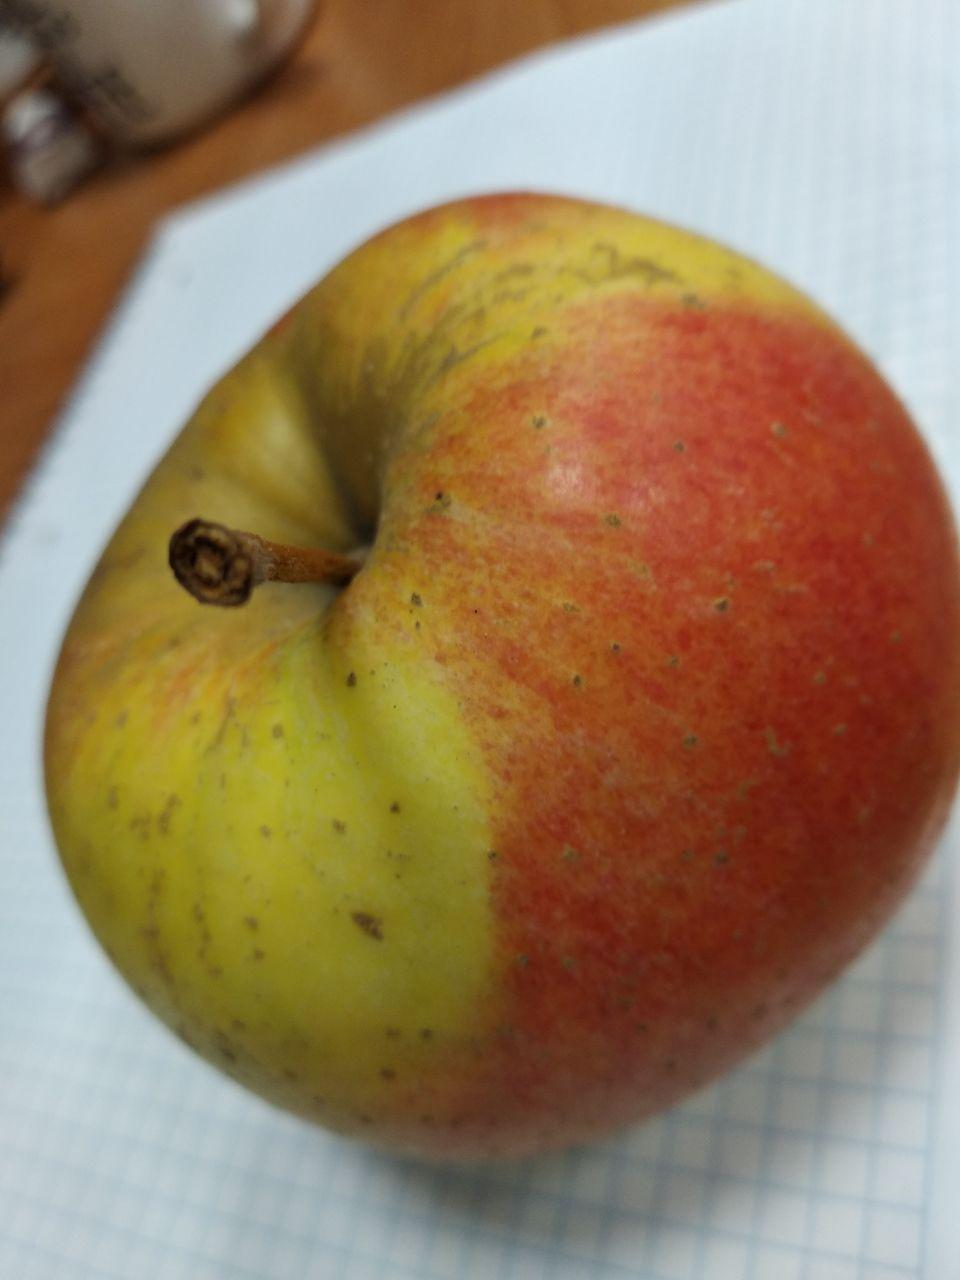Apple: (44, 194, 955, 1155)
